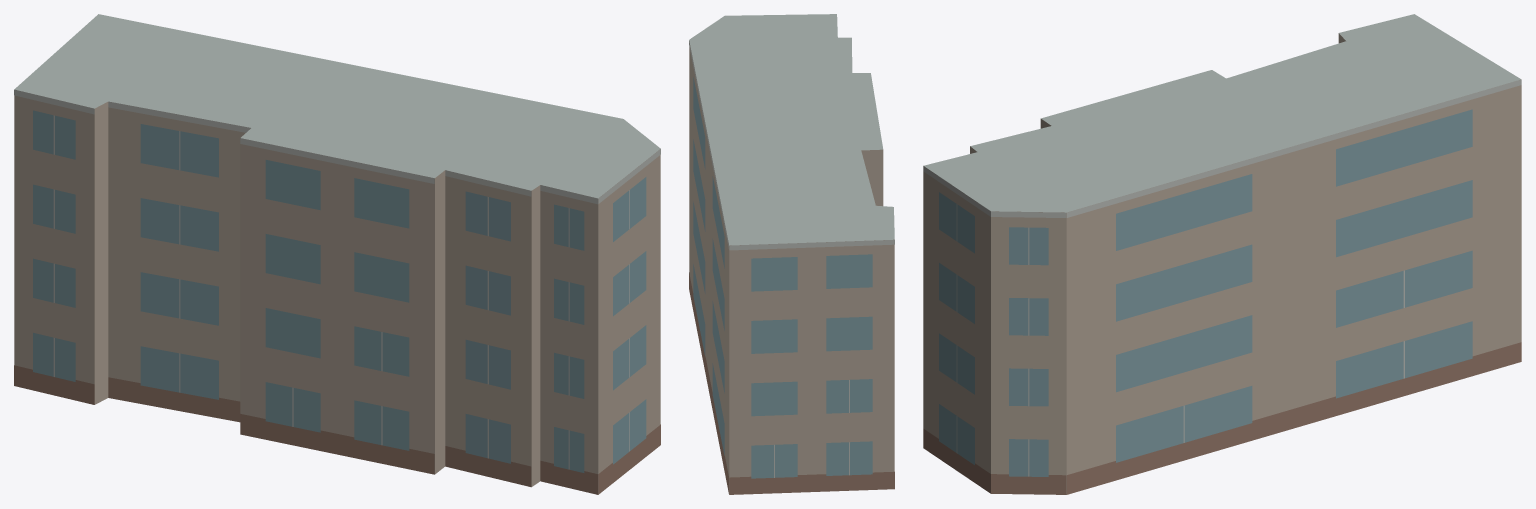
File: survey-upis-32951107.glb
3 renders of one model, left to right at view 1: azimuth 30°, elevation 25°; view 2: azimuth 150°, elevation 25°; view 3: azimuth 270°, elevation 25°, orthographic. The views are drawn at different scales.
Parts seen in each view (by area): view 1: survey-upis-32951107.tmp; view 2: survey-upis-32951107.tmp; view 3: survey-upis-32951107.tmp.
Part boxes in pixels (box(x1,y1,x2,y2)): survey-upis-32951107.tmp: box(14, 14, 660, 494); survey-upis-32951107.tmp: box(689, 14, 894, 494); survey-upis-32951107.tmp: box(923, 14, 1521, 494).
Bounding box in the file's own units: 18.4 × 12.2 × 23.43.
